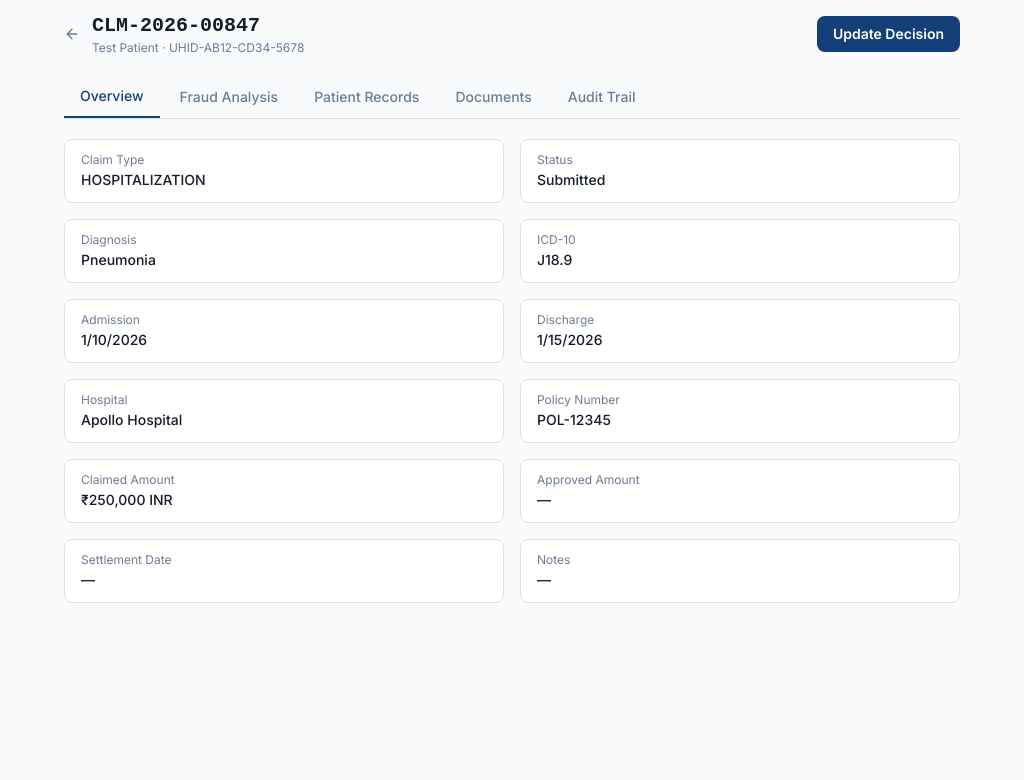
Scenario: ClaimDetailPage › fraud tab shows fraud score and risk level badge
The image size is (1024, 780).
Click the button with test id "tab-fraud".
click(229, 97)  # box [164,76,294,118]
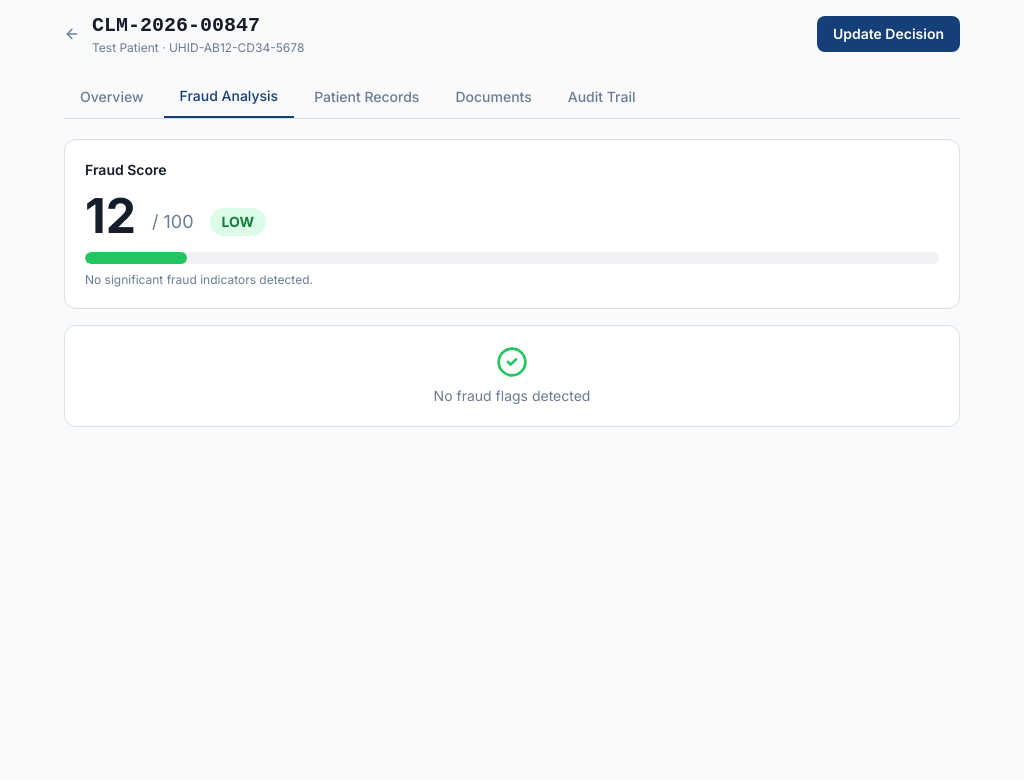
Expected: the text "12" is shown, [85,192,136,240]
Expected: the element with test id "tab-fraud-content" is shown, [64,139,960,427]
Expected: the text "LOW" is shown, [210,208,266,236]
